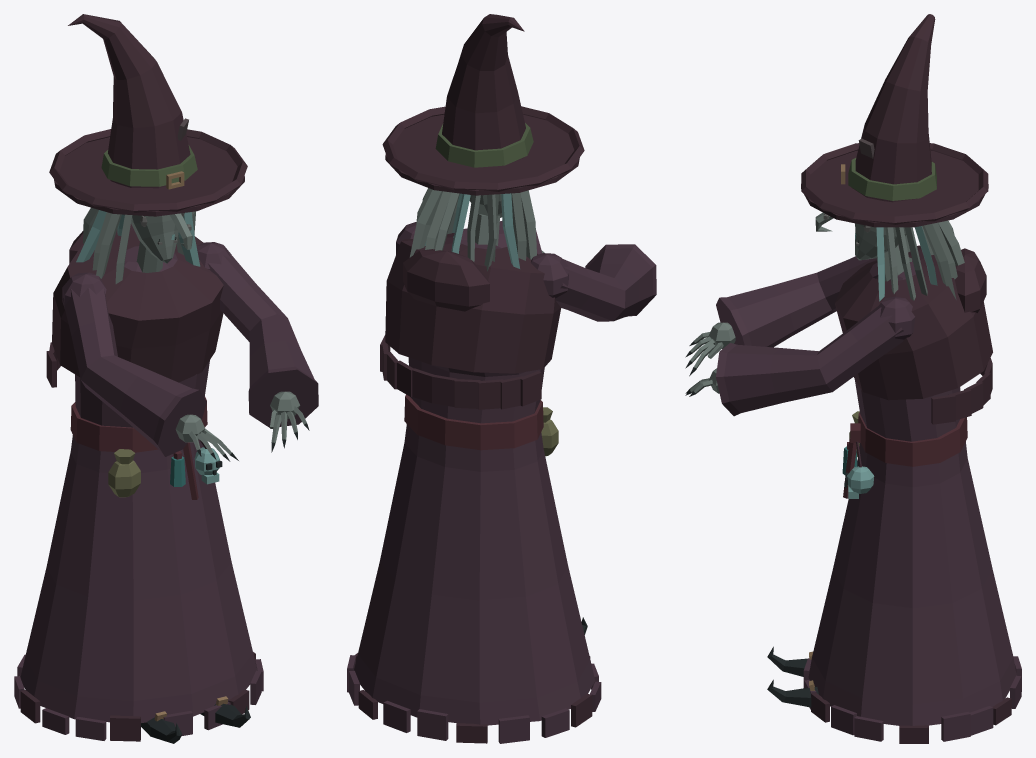
File: vrajitoare_2.glb
3 renders of one model, left to right at view 1: azimuth 30°, elevation 25°; view 2: azimuth 150°, elevation 25°; view 3: azimuth 270°, elevation 25°, orthographic. The views are drawn at different scales.
Visible parts, largest first — view 1: Corp, Cap, Brate; view 2: Corp, Cap, Brate; view 3: Corp, Cap, Brate.
Boxes of the visible parts, x1=… form: Corp: x1=14, y1=223, x2=263, y2=743; Cap: x1=49, y1=14, x2=247, y2=283; Brate: x1=62, y1=242, x2=318, y2=461; Corp: x1=347, y1=233, x2=601, y2=743; Cap: x1=382, y1=14, x2=584, y2=271; Brate: x1=396, y1=221, x2=656, y2=321; Corp: x1=767, y1=245, x2=1021, y2=743; Cap: x1=801, y1=14, x2=988, y2=301; Brate: x1=685, y1=244, x2=915, y2=416.
Size of the model in its own units: 0.7036 by 2.08 by 0.9689.
